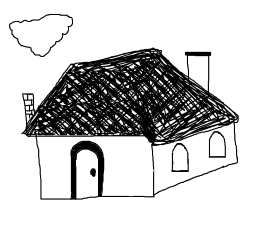chimney: (182, 45, 216, 93), (18, 85, 41, 127)
clouds: (8, 10, 77, 59)
door: (65, 139, 109, 199)
open_window: (159, 138, 196, 177), (205, 130, 230, 159)
shaded_roof: (15, 43, 242, 140)
wall: (28, 133, 160, 206)
